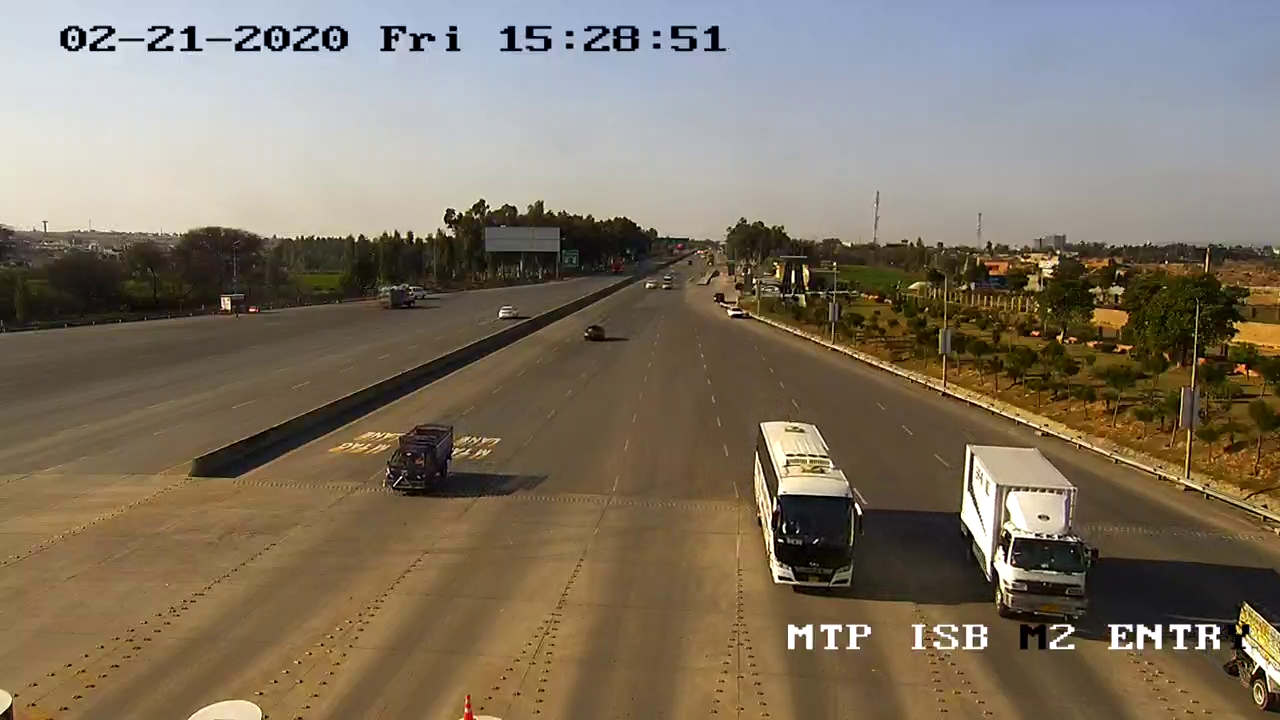f3: (375, 419, 460, 500)
f4: (742, 413, 869, 594)
f5: (950, 432, 1100, 631)
